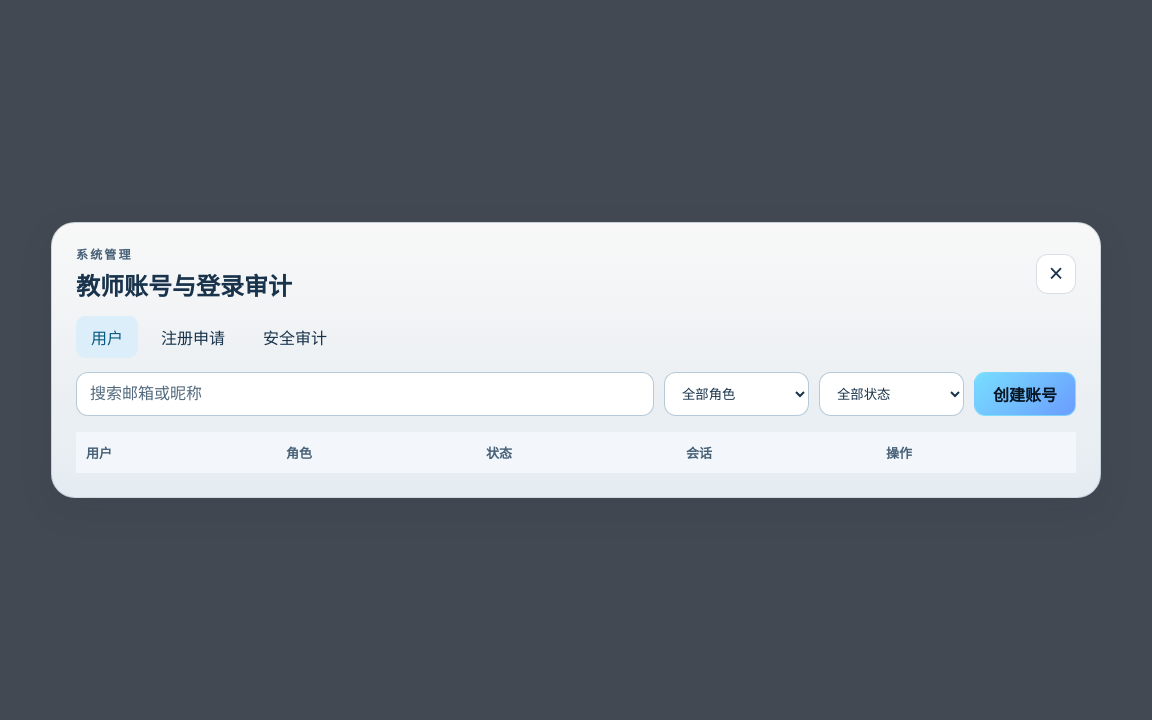
UserManagementPanel › shows the registrations tab with a pending badge and request details
Click the button "注册申请": (193, 337) left=146, top=316, right=240, bottom=358
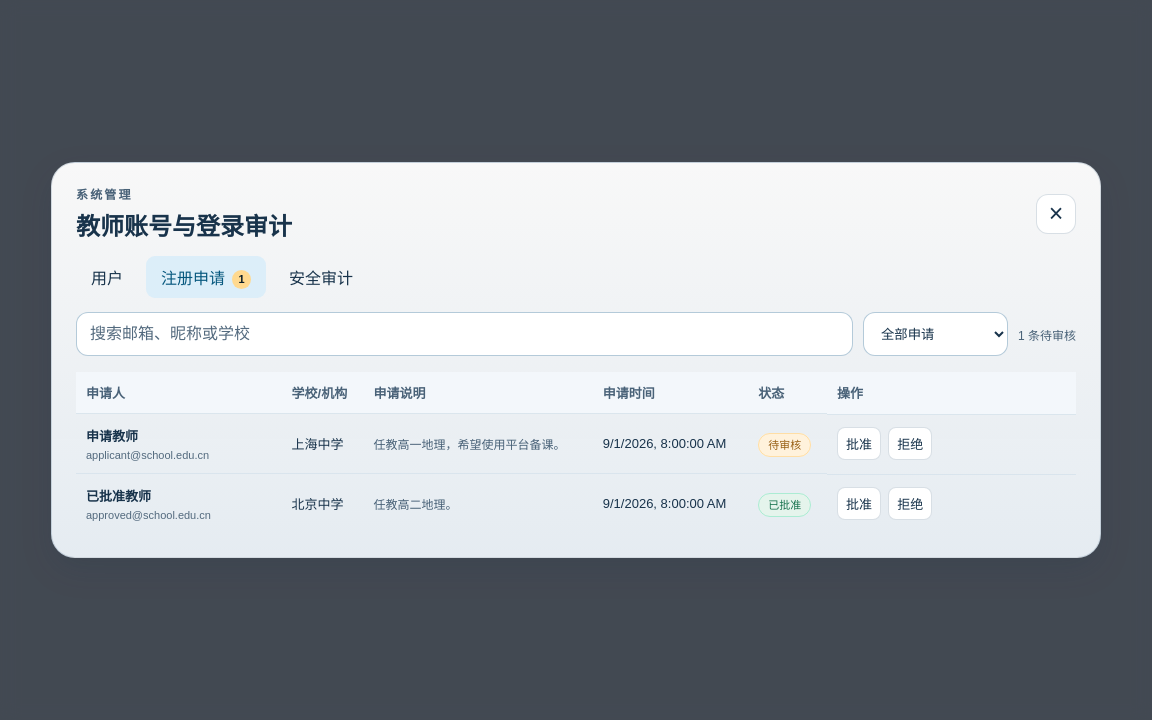
Expected: the text "applicant@school.edu.cn" is shown, left=86, top=449, right=209, bottom=461
Expected: the text "上海中学" is shown, left=282, top=414, right=363, bottom=474
Expected: the text "任教高一地理，希望使用平台备课。" is shown, left=363, top=414, right=593, bottom=474
